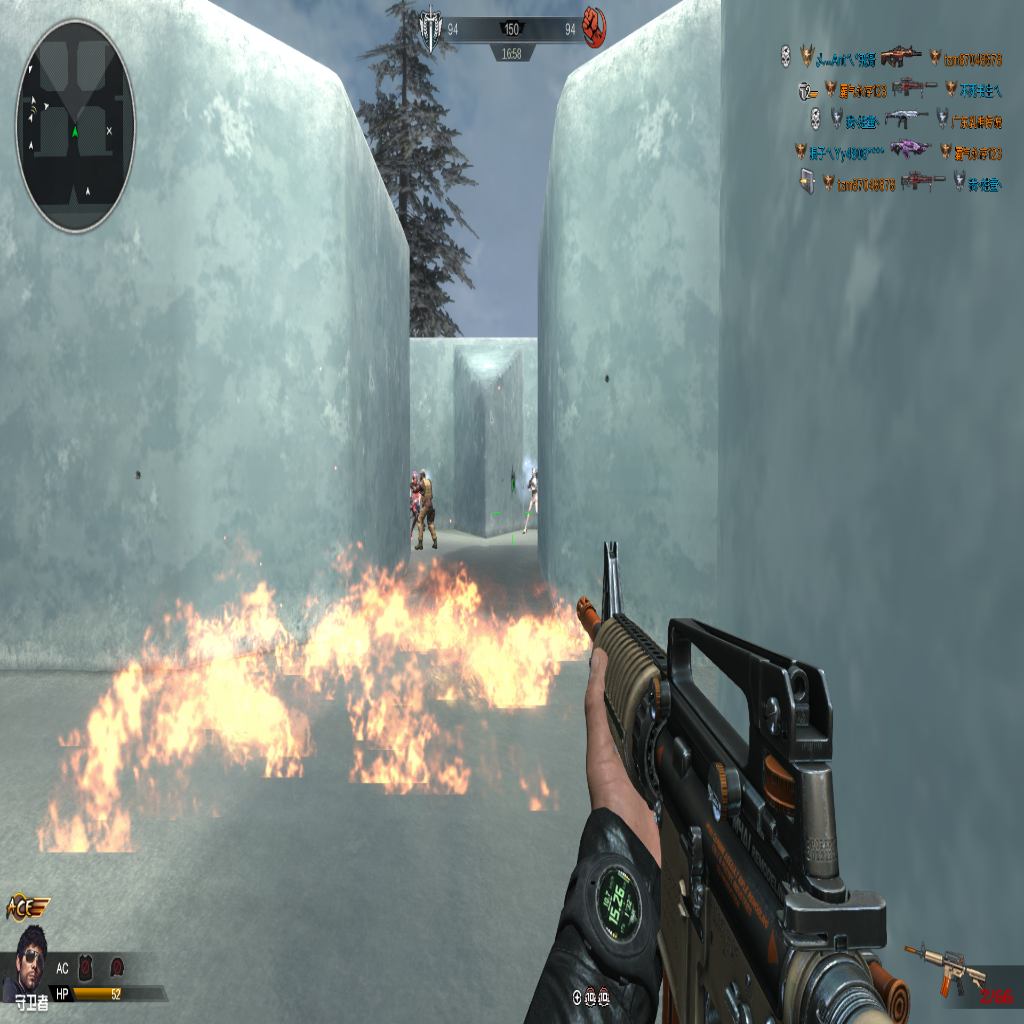tt: (416, 467, 437, 545), (523, 466, 539, 535)
